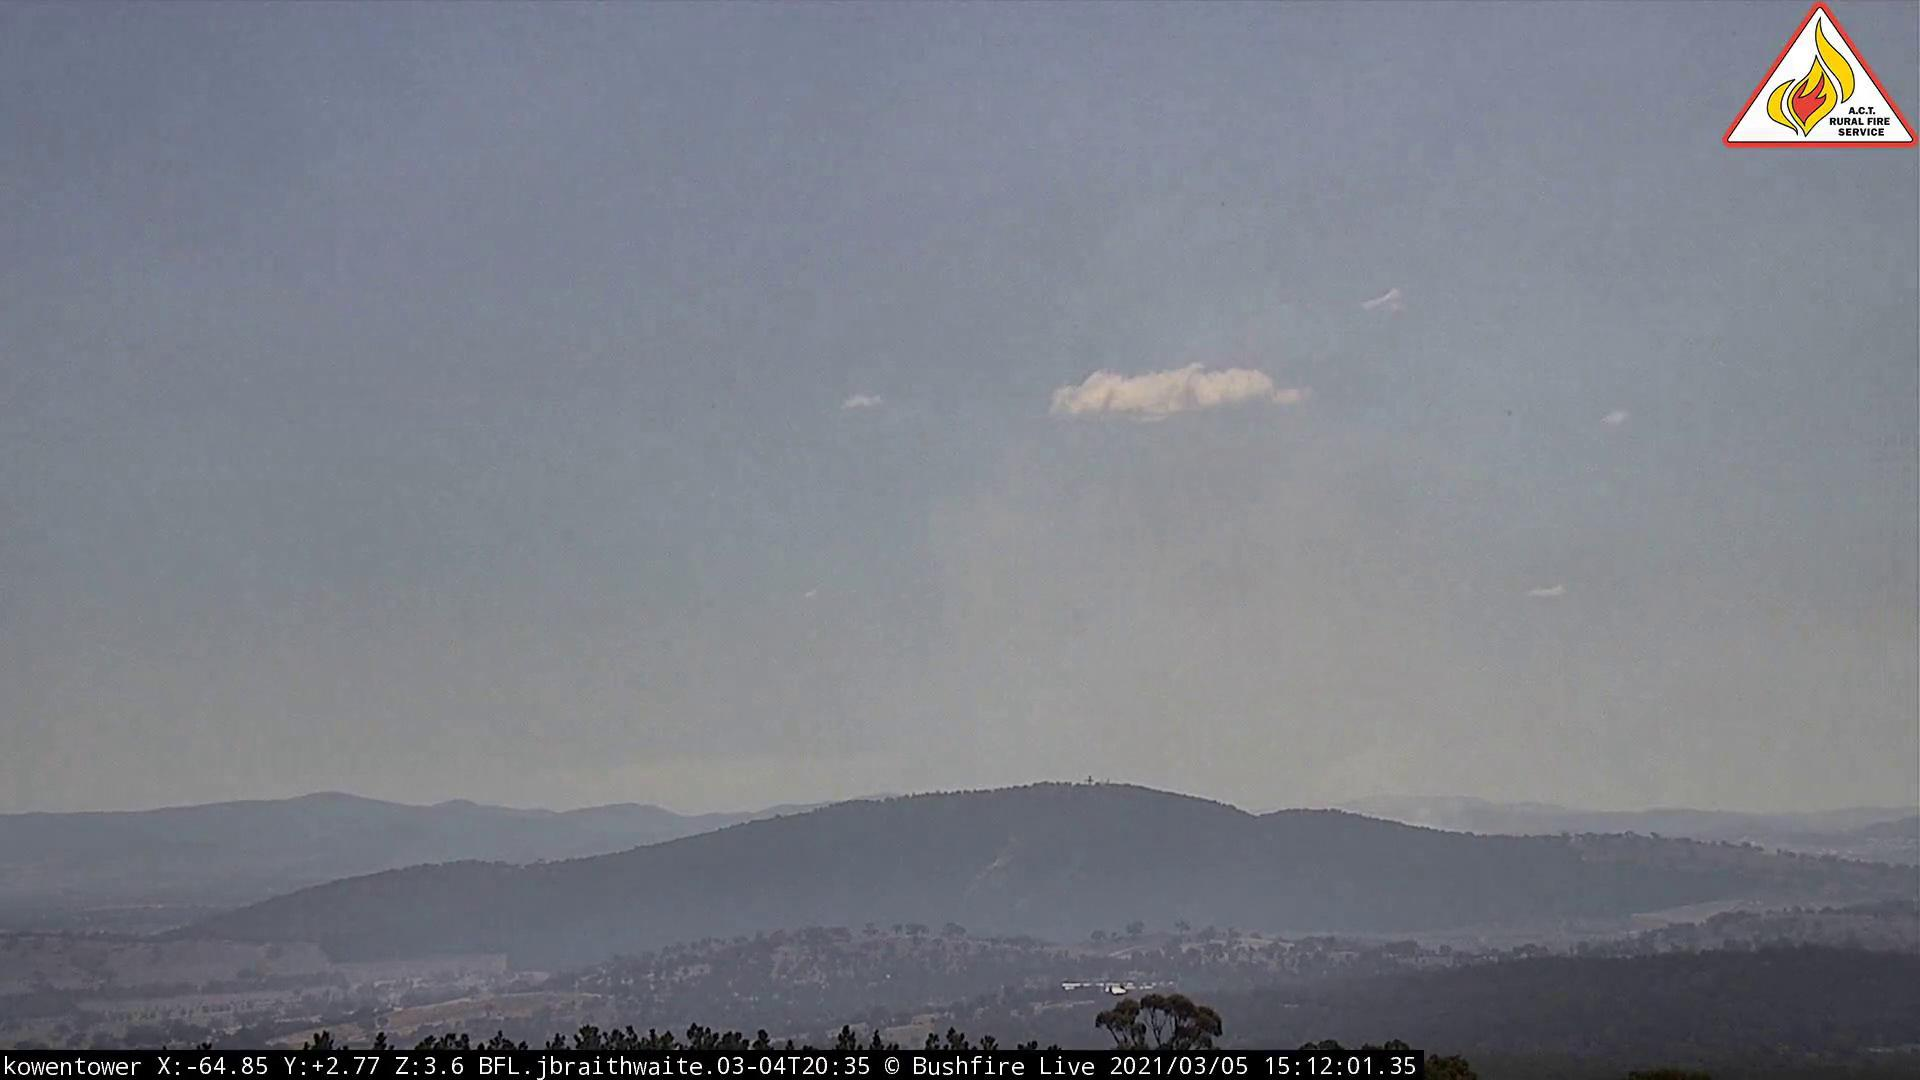Smoke: (837, 363, 1476, 835)
